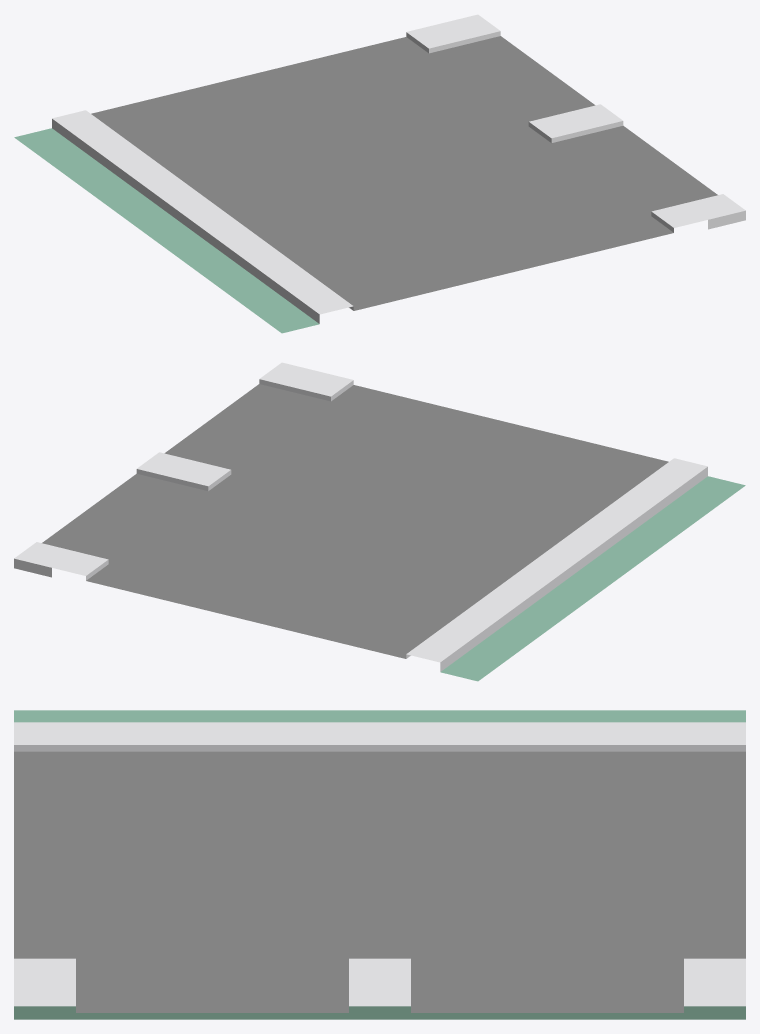
Rendered from roadPitGarage.glb.
The picture shows the model from 3 angles, top to bottom: view 1: azimuth 30°, elevation 25°; view 2: azimuth 150°, elevation 25°; view 3: azimuth 270°, elevation 25°; orthographic projection. The views are drawn at different scales.
Visible parts, largest first — view 1: roadPitGarage; view 2: roadPitGarage; view 3: roadPitGarage.
Boxes of the visible parts, <box> form: roadPitGarage: <box>14,14,745,333</box>; roadPitGarage: <box>14,362,745,681</box>; roadPitGarage: <box>14,710,745,1019</box>.
Size of the model in its own units: 1.48 by 0.0295 by 1.48.
